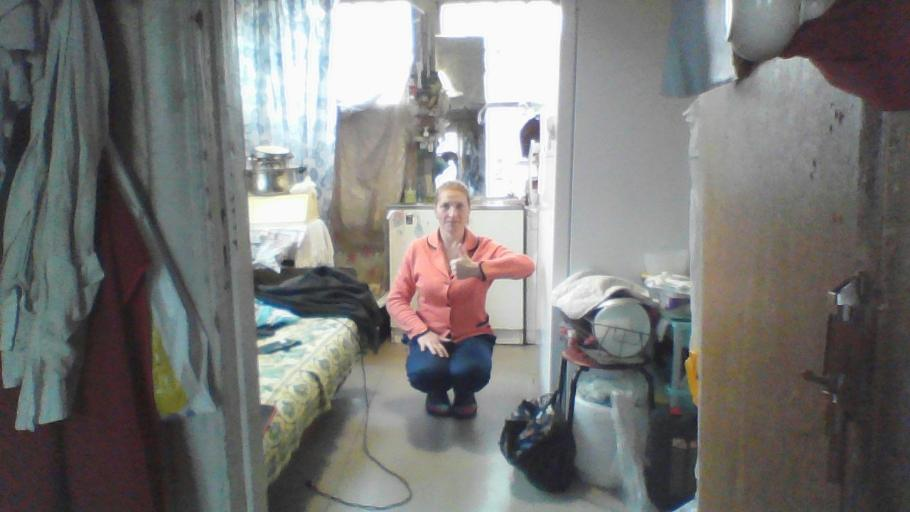like: (446, 241, 479, 281)
no_gesture: (414, 328, 455, 362)
